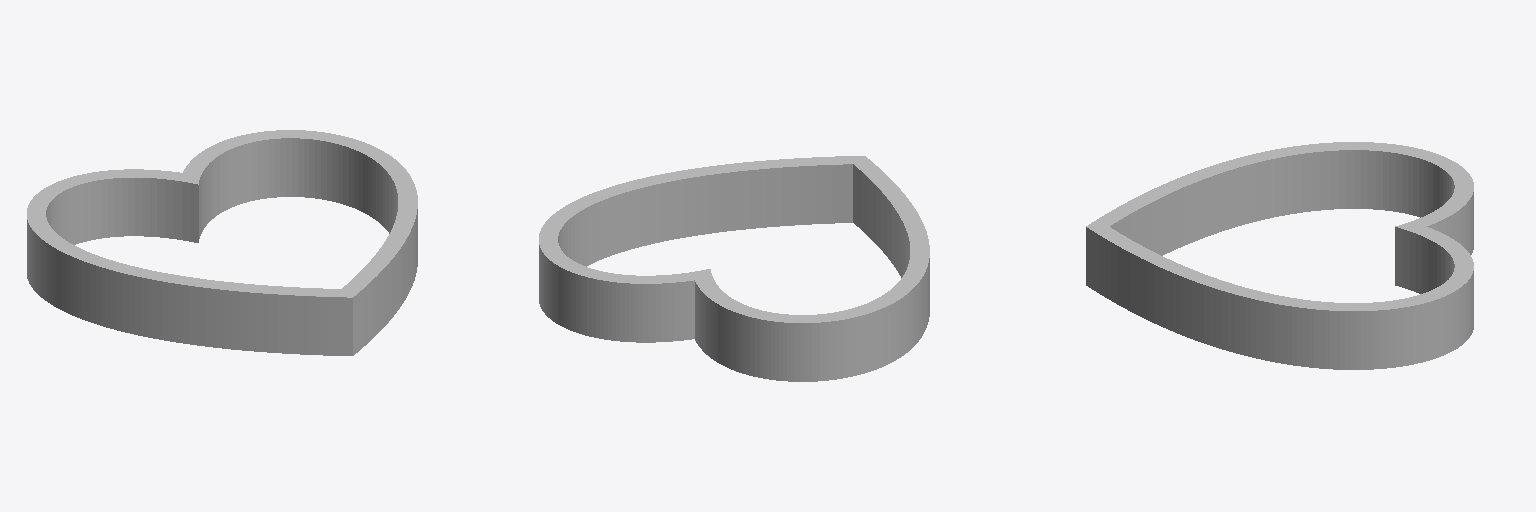
The model's file is heart.obj.
The picture shows the model from 3 angles: view 1: azimuth 30°, elevation 25°; view 2: azimuth 150°, elevation 25°; view 3: azimuth 270°, elevation 25°; orthographic projection.
Size of the model in its own units: 14 by 2.26 by 13.56.